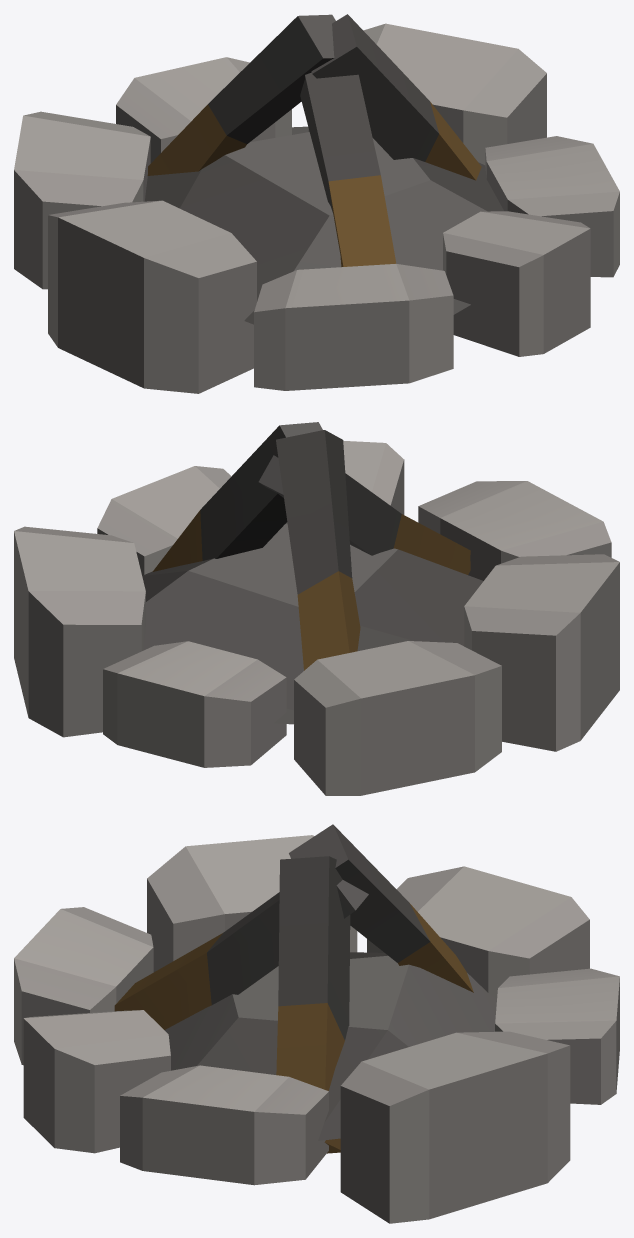
Rendered from SA_Prop_Campfire_01.glb.
3 views of the same model, one above another, from view 1: azimuth 30°, elevation 25°; view 2: azimuth 150°, elevation 25°; view 3: azimuth 270°, elevation 25° (orthographic). The views are drawn at different scales.
Visible parts, largest first — view 1: SA_Prop_Campfire_01; view 2: SA_Prop_Campfire_01; view 3: SA_Prop_Campfire_01.
Boxes of the visible parts, box(x1,y1,x2,y2) form: SA_Prop_Campfire_01: box(14, 14, 619, 393); SA_Prop_Campfire_01: box(14, 422, 619, 795); SA_Prop_Campfire_01: box(14, 824, 619, 1223).
Size of the model in its own units: 0.8516 by 0.4064 by 0.8442.
Materials: 1 (1 with a texture image).
